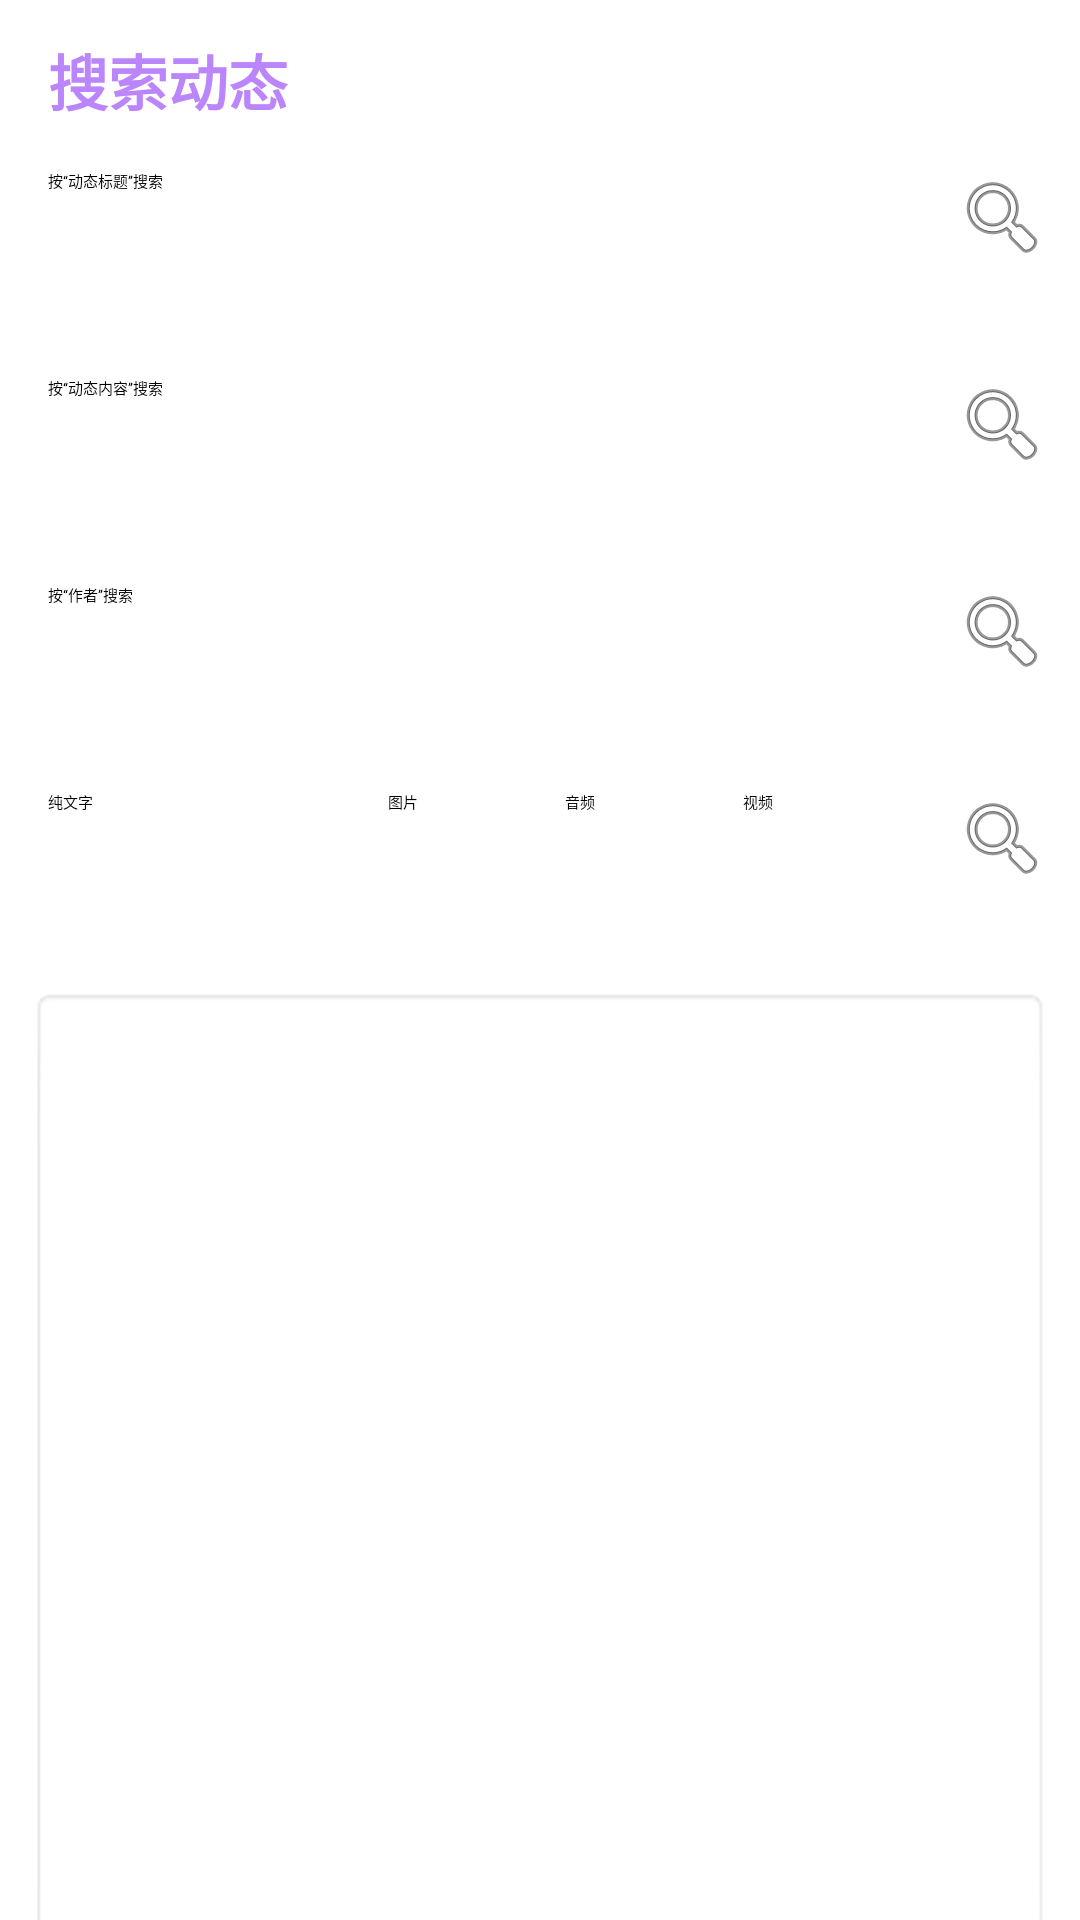

Icon bounding boxes for this 1080*1920 phone screenshot, format rect(x1, y1, x2, y2):
search: rect(966, 182, 1038, 253), rect(966, 389, 1038, 460), rect(966, 596, 1038, 667), rect(966, 803, 1038, 874)
